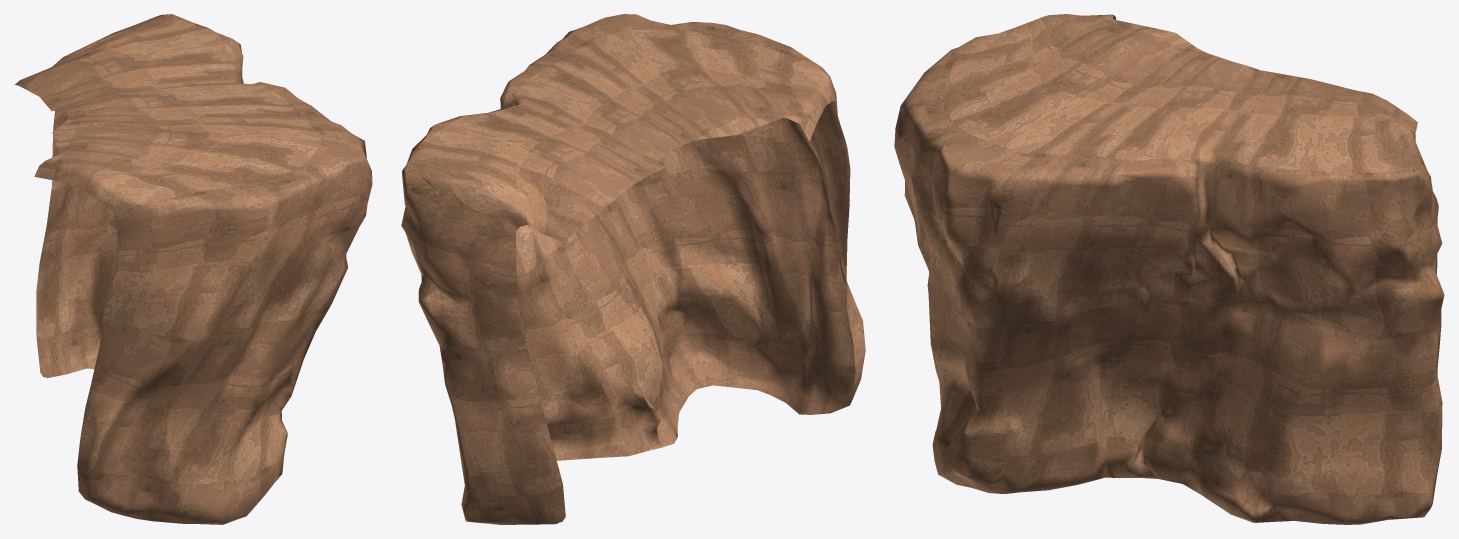
The model's file is Ob_RockCliff31.fbx.
3 views of the same model, side by side, from view 1: azimuth 30°, elevation 25°; view 2: azimuth 150°, elevation 25°; view 3: azimuth 270°, elevation 25° (orthographic). The views are drawn at different scales.
Parts seen in each view (by area): view 1: Ob_RockCliff31; view 2: Ob_RockCliff31; view 3: Ob_RockCliff31.
Boxes of the visible parts, x1,y1,x2,y2 form: Ob_RockCliff31: [15, 14, 372, 524]; Ob_RockCliff31: [401, 14, 865, 524]; Ob_RockCliff31: [894, 14, 1444, 524].
Size of the model in its own units: 9376 by 10753 by 13115.
